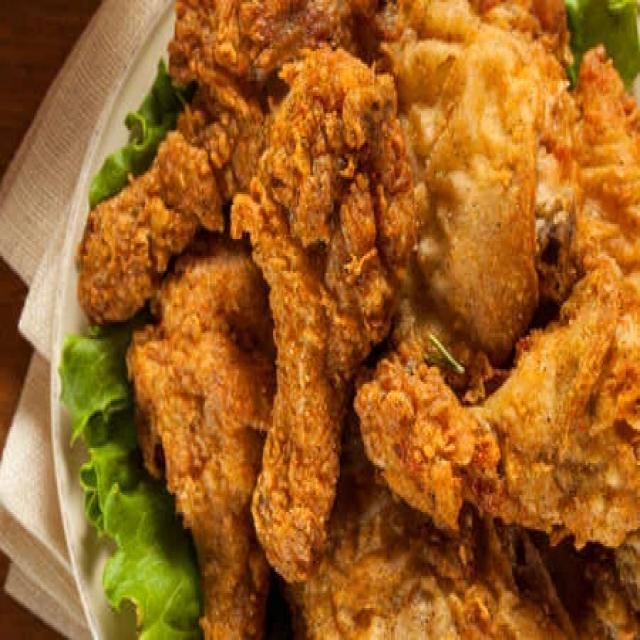Frango: (69, 0, 640, 640)
